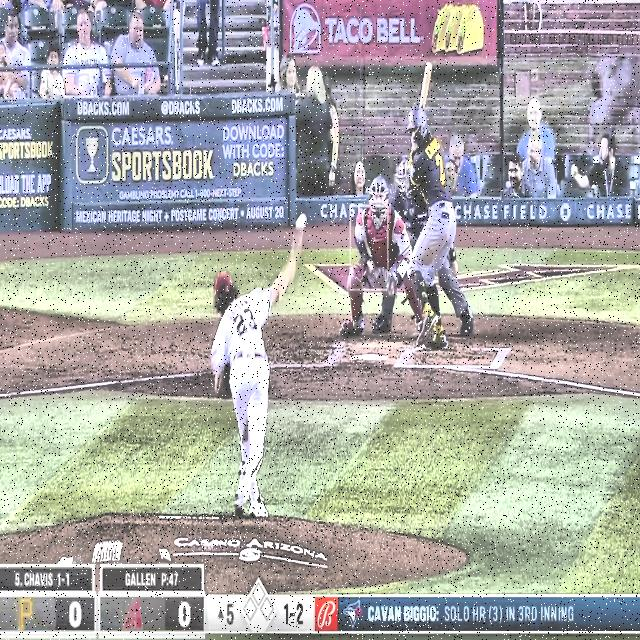baseball: (296, 212, 306, 230)
